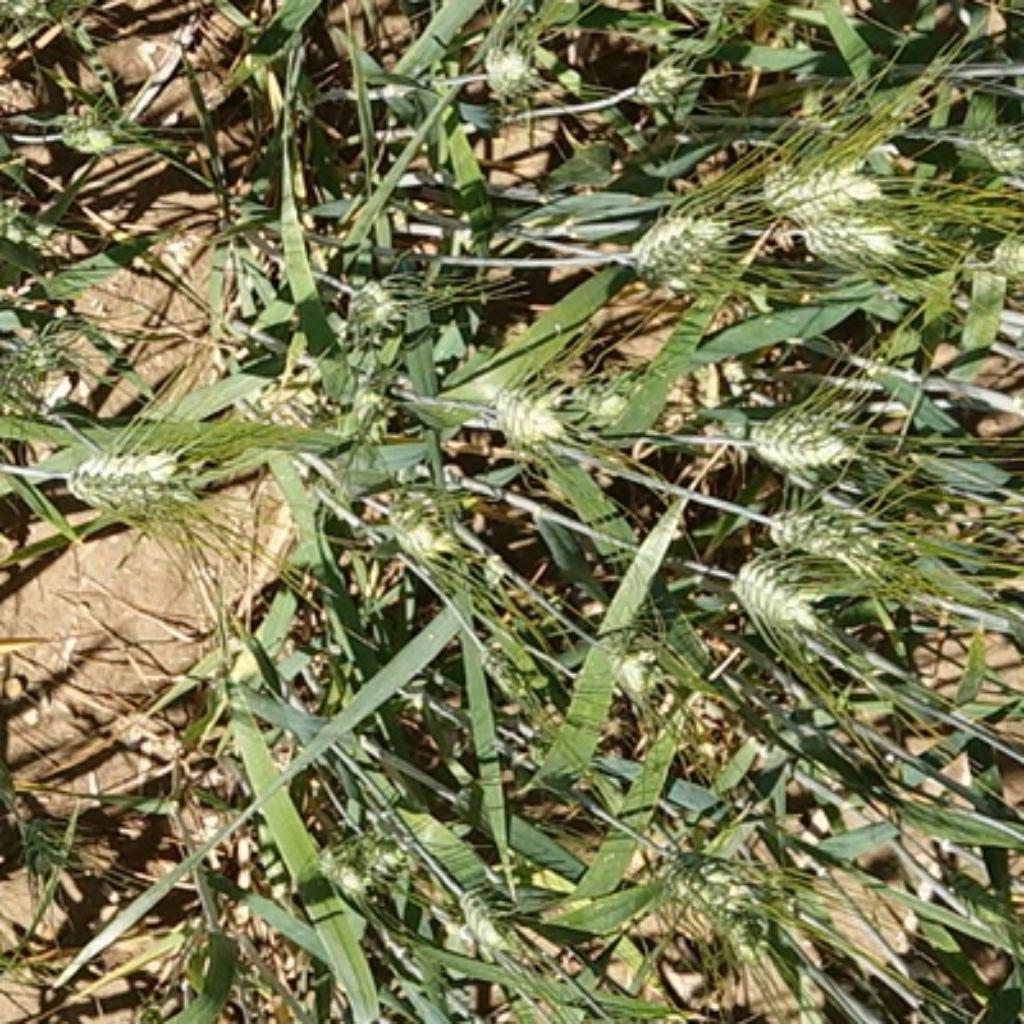0-0: (627, 824, 796, 960), (750, 148, 911, 238), (788, 199, 952, 273), (53, 430, 199, 512), (568, 348, 691, 442), (368, 463, 473, 570), (724, 391, 860, 473), (309, 798, 422, 896), (766, 502, 910, 574), (619, 194, 732, 284), (581, 616, 663, 719), (721, 550, 821, 634), (20, 312, 97, 412), (437, 867, 519, 957), (481, 373, 570, 448), (10, 806, 74, 898), (0, 174, 61, 256), (473, 25, 542, 97), (337, 263, 409, 332), (337, 371, 396, 453), (967, 102, 1024, 184), (629, 46, 704, 107), (53, 94, 133, 148), (473, 637, 535, 704), (980, 207, 1024, 291)
